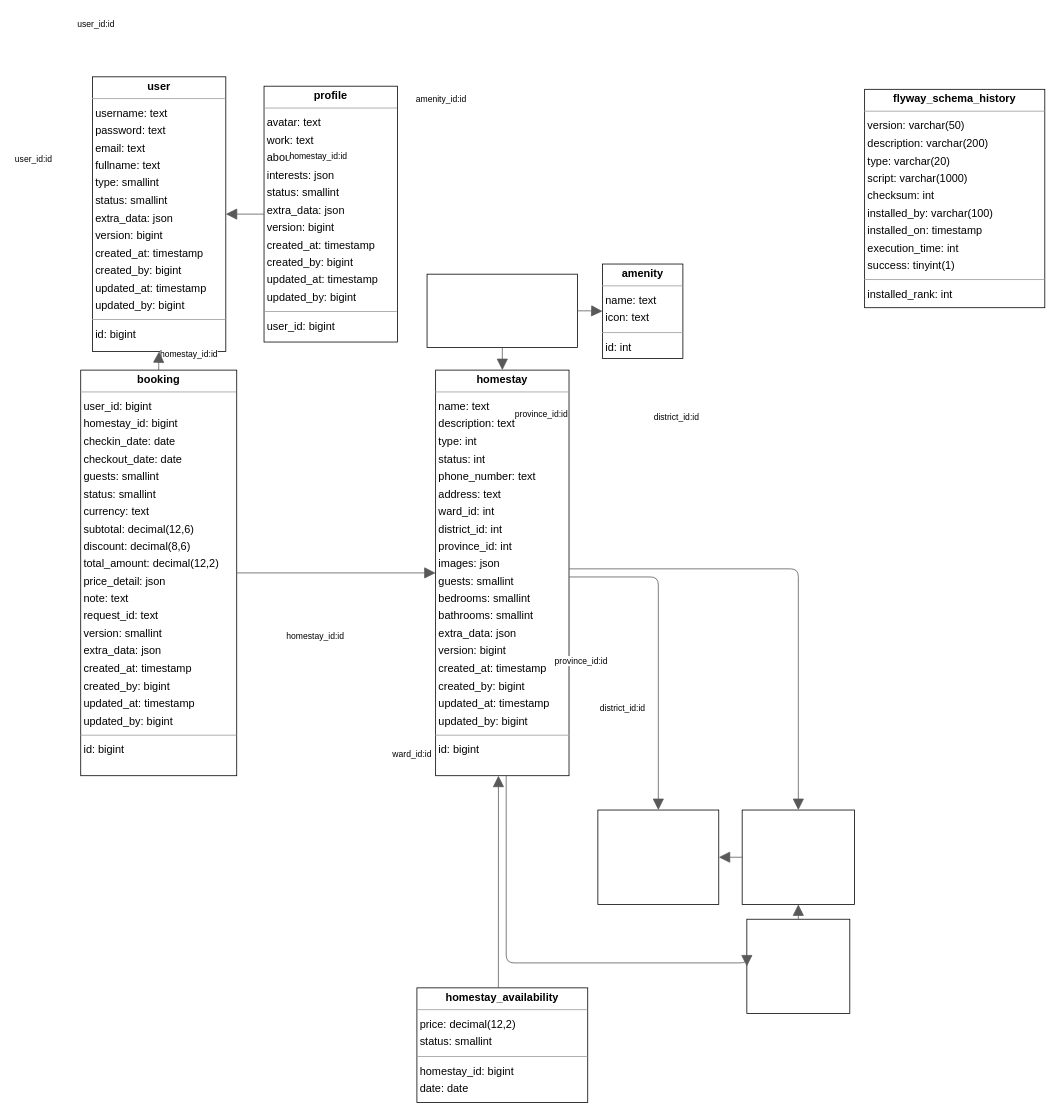
Image size: 1058x1116. Some labels were removed from this diagram. Each missing label, with the box of its shape:
district district_name: text province_id: int id: int: (741, 809, 854, 904)
homestay_amenity homestay_id: bigint amenity_id: int: (426, 273, 578, 347)
province province_name: text country_id: int id: int: (597, 809, 719, 904)
ward ward_name: text district_id: int id: int: (746, 918, 850, 1014)
